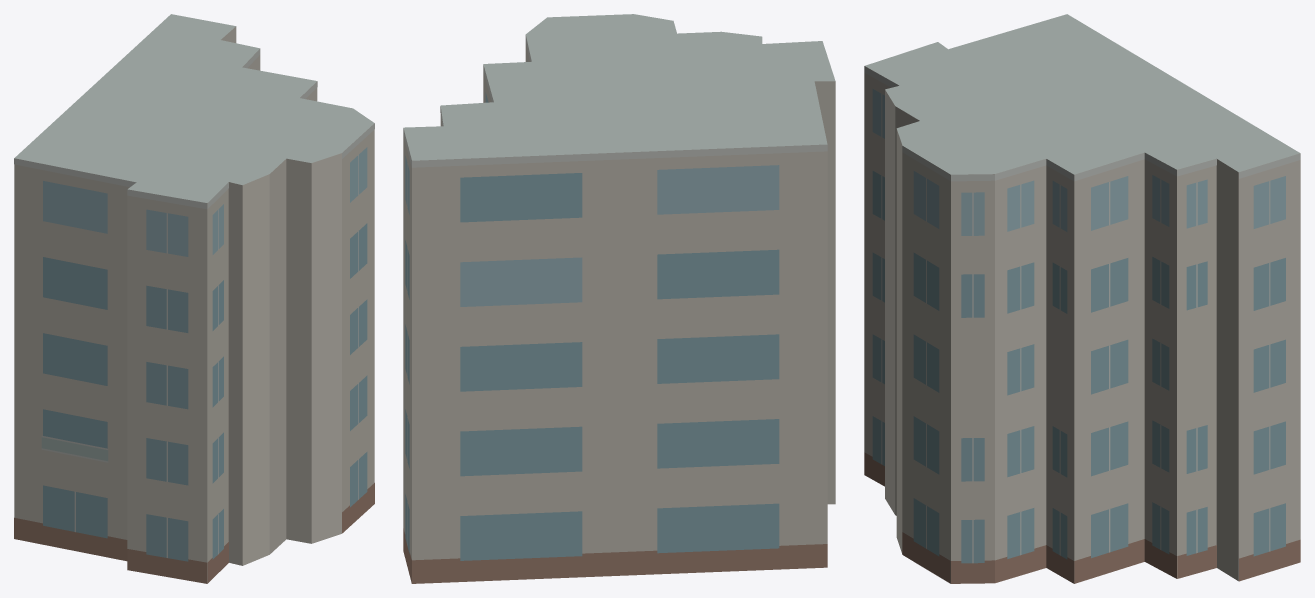
File: survey-upis-32577734.glb
3 views of the same model, side by side, from view 1: azimuth 30°, elevation 25°; view 2: azimuth 150°, elevation 25°; view 3: azimuth 270°, elevation 25° (orthographic). The views are drawn at different scales.
Visible parts, largest first — view 1: survey-upis-32577734.tmp; view 2: survey-upis-32577734.tmp; view 3: survey-upis-32577734.tmp.
Boxes of the visible parts, box(x1,y1,x2,y2) form: survey-upis-32577734.tmp: box(14, 14, 374, 583); survey-upis-32577734.tmp: box(403, 14, 835, 583); survey-upis-32577734.tmp: box(864, 14, 1300, 583).
Size of the model in its own units: 12.6 by 14.95 by 14.45.
